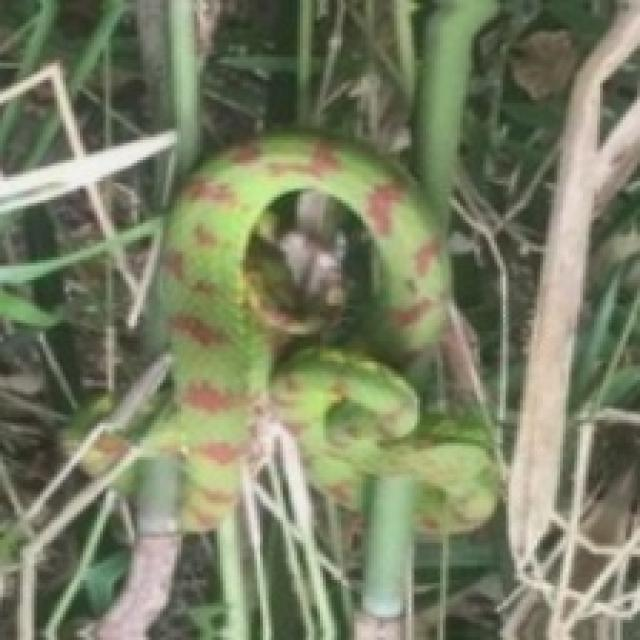philippine pitviper: (143, 134, 497, 531), (157, 131, 446, 529)
